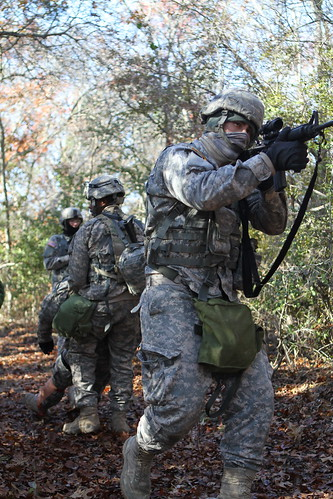soldier: (145, 99, 280, 499), (63, 177, 144, 442)
vegetation: (1, 1, 333, 161)
weapon: (243, 105, 333, 161)
